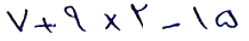character: (64, 5, 85, 31), (6, 8, 26, 31), (132, 3, 148, 28), (216, 9, 235, 28), (34, 17, 56, 33), (193, 7, 207, 28), (105, 14, 121, 30), (161, 22, 173, 35)
